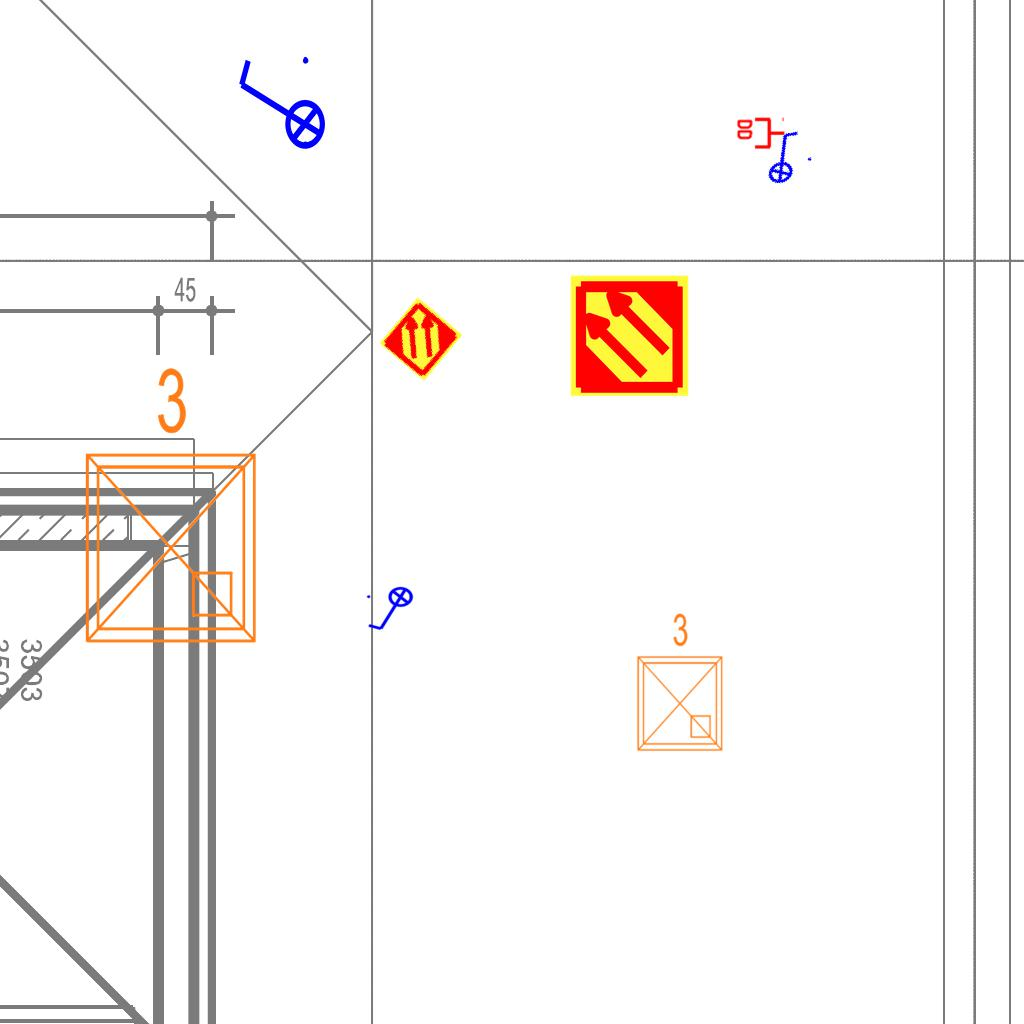ASR_Ansaugrauchmelder: (567, 273, 692, 398), (377, 295, 465, 383)
Ausschalter_beleuchtet: (231, 51, 327, 163), (747, 123, 819, 191), (364, 586, 420, 634)
Datenanschluss_zweifach: (735, 117, 786, 151)
Einbaudownlights_LED_Konferenzraeume: (63, 357, 271, 657), (626, 608, 730, 758)
